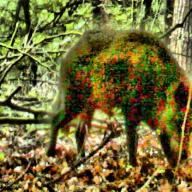boar: (34, 17, 192, 181)
